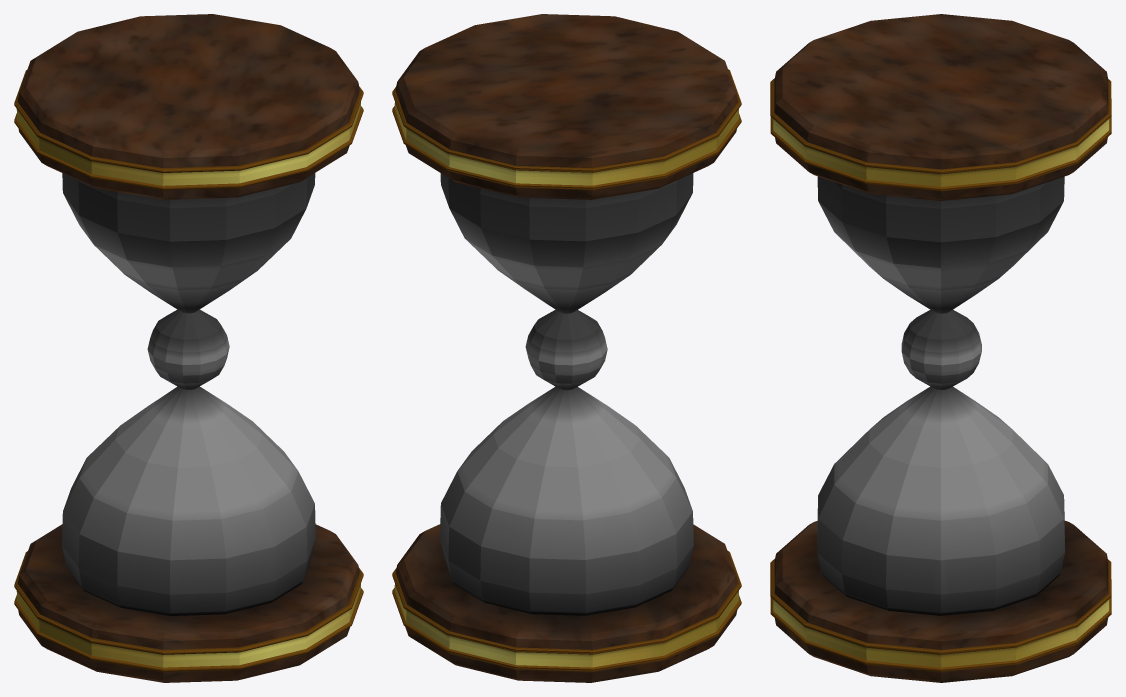
Rendered from timetravel.fbx.
3 views of the same model, side by side, from view 1: azimuth 30°, elevation 25°; view 2: azimuth 150°, elevation 25°; view 3: azimuth 270°, elevation 25° (orthographic).
Visible parts, largest first — view 1: Glass, Wood, Shadow, Decor; view 2: Glass, Wood, Shadow, Decor; view 3: Glass, Wood, Shadow, Decor.
Part boxes in pixels (x1,y1,x2,y2): Glass: (62, 173, 315, 615); Wood: (17, 14, 359, 682); Shadow: (17, 129, 359, 649); Decor: (14, 70, 363, 671); Glass: (440, 173, 693, 615); Wood: (395, 14, 737, 682); Shadow: (395, 129, 737, 649); Decor: (392, 69, 741, 671); Glass: (817, 176, 1064, 615); Wood: (774, 14, 1108, 682); Shadow: (774, 137, 1108, 649); Decor: (770, 78, 1111, 671).
Bounding box in the file's own units: 0.5015 × 0.841 × 0.4896.
5 materials, 5 textured.
